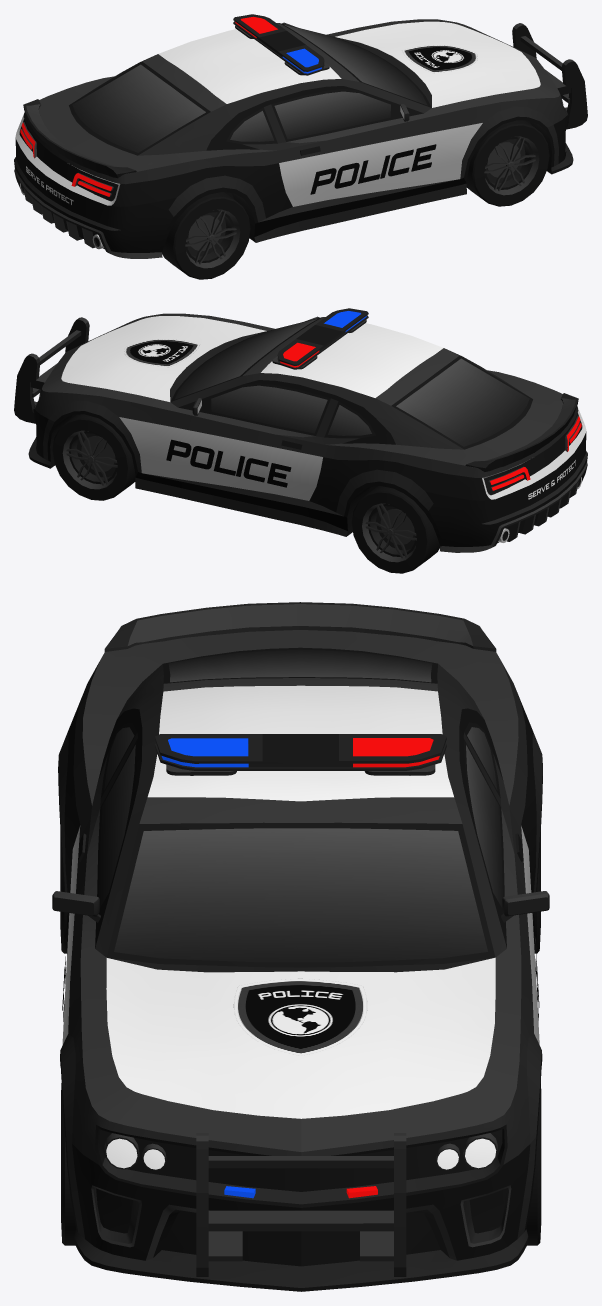
File: Emergency_021.glb
3 views of the same model, one above another, from view 1: azimuth 30°, elevation 25°; view 2: azimuth 150°, elevation 25°; view 3: azimuth 270°, elevation 25° (orthographic). The views are drawn at different scales.
Visible parts, largest first — view 1: Emergency_021, wheel_3_Emergency_021_Wheel_2R, wheel_1_Emergency_021_Wheel_1R; view 2: Emergency_021, wheel_2_Emergency_021_Wheel_2L, wheel_0_Emergency_021_Wheel_1L; view 3: Emergency_021, wheel_0_Emergency_021_Wheel_1L, wheel_1_Emergency_021_Wheel_1R.
Boxes of the visible parts, x1,y1,x2,y2 form: Emergency_021: (14,14,587,258); wheel_3_Emergency_021_Wheel_2R: (162,192,250,279); wheel_1_Emergency_021_Wheel_1R: (466,120,549,206); Emergency_021: (14,308,587,552); wheel_2_Emergency_021_Wheel_2L: (351,486,440,573); wheel_0_Emergency_021_Wheel_1L: (52,414,135,500); Emergency_021: (52,602,549,1291); wheel_0_Emergency_021_Wheel_1L: (526,1082,541,1245); wheel_1_Emergency_021_Wheel_1R: (61,1083,76,1245).
Size of the model in its own units: 4.96 by 1.49 by 2.06.
Materials: 3 (3 with a texture image).
